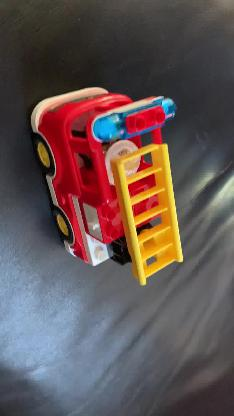lego fire truck: (28, 86, 184, 286)
